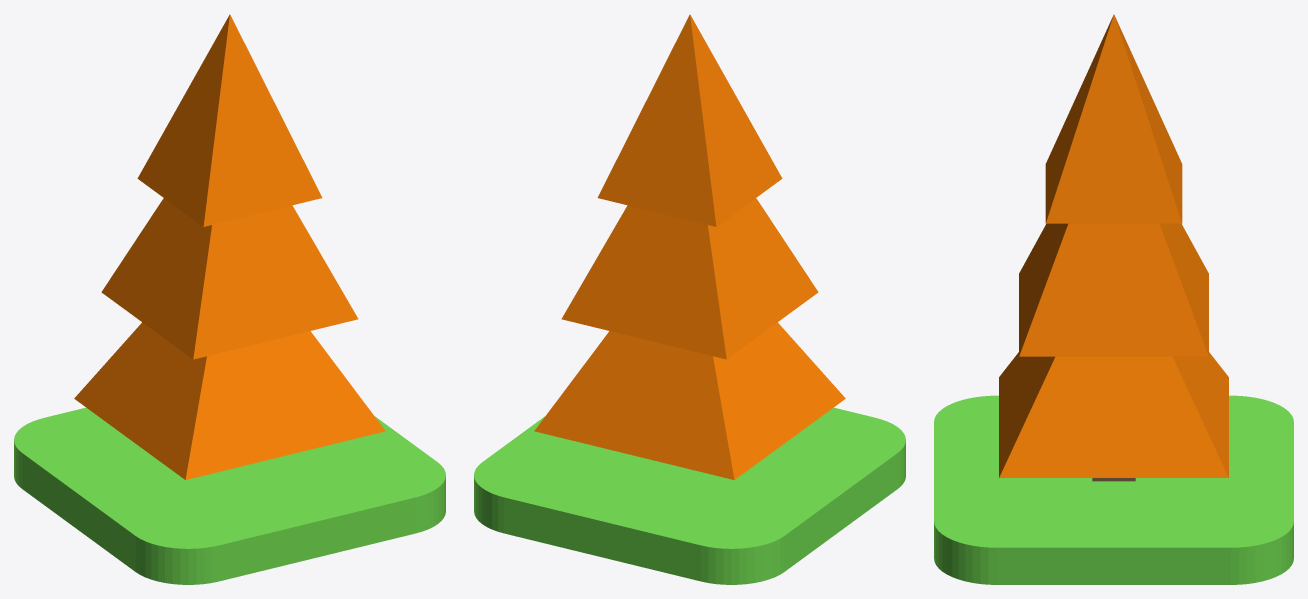
The model's file is Tree3.fbx.
3 views of the same model, side by side, from view 1: azimuth 30°, elevation 25°; view 2: azimuth 150°, elevation 25°; view 3: azimuth 270°, elevation 25° (orthographic). The views are drawn at different scales.
Parts seen in each view (by area): view 1: Cube.016, Cube; view 2: Cube.016, Cube; view 3: Cube.016, Cube.
Part boxes in pixels (left/top/right/bottom): Cube.016: left=74, top=14, right=385, bottom=479; Cube: left=14, top=407, right=445, bottom=584; Cube.016: left=534, top=14, right=845, bottom=479; Cube: left=474, top=407, right=905, bottom=584; Cube.016: left=999, top=14, right=1228, bottom=477; Cube: left=934, top=395, right=1293, bottom=584.
Size of the model in its own units: 200 by 303 by 200.
